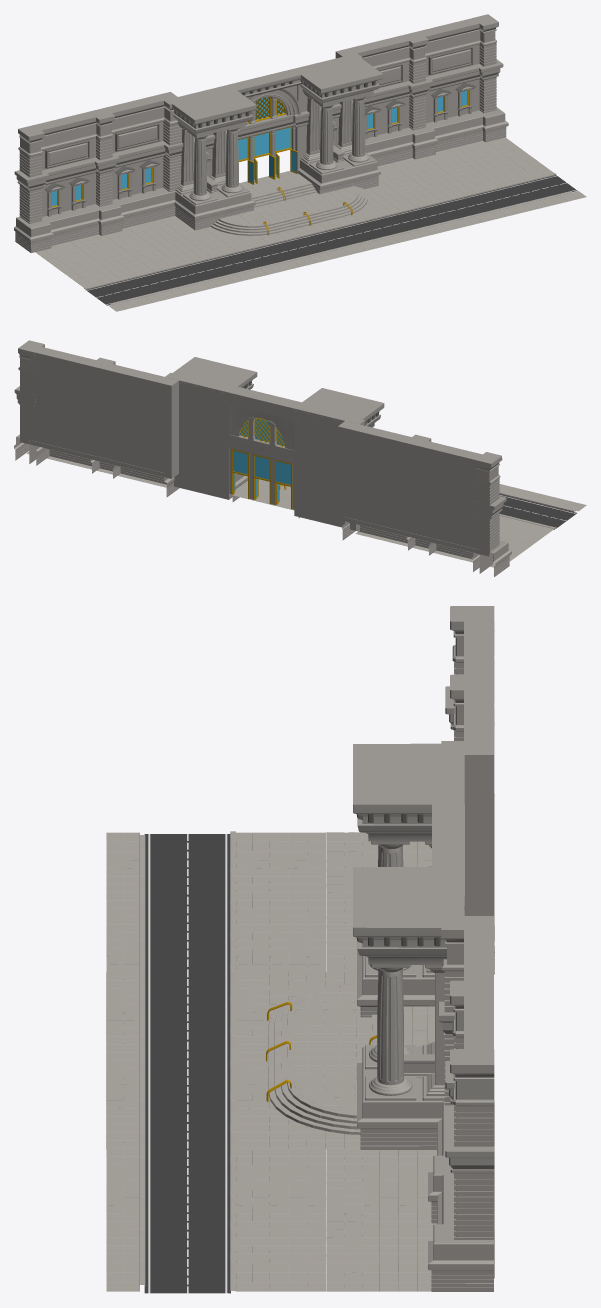
The model's file is Museum_exterrior.fbx.
3 renders of one model, top to bottom at view 1: azimuth 30°, elevation 25°; view 2: azimuth 150°, elevation 25°; view 3: azimuth 270°, elevation 25°, orthographic. The views are drawn at different scales.
Visible parts, largest first — view 1: Wall_windows_L, sidewalk_floor, Wall_windows_R, road, Colum_Part_R, Colum_Part_L, stairs, sidewalk_floor_2, Wall_center_up, Door_panel (×2); view 2: Wall_windows_L, Wall_windows_R, Colum_Part_R, Colum_Part_L, Wall_center_up, sidewalk_floor, Door_panel (×3), road, stairs, sidewalk_floor_2, Colum_door; view 3: sidewalk_floor, road, Colum_Part_R, Wall_windows_R, sidewalk_floor_2, stairs, Colum_Part_L, Wall_windows_L, Wall_center_up.
Part boxes in pixels (left/top/right/bottom): Wall_windows_L: left=14, top=92, right=182, bottom=252; sidewalk_floor: left=35, top=137, right=553, bottom=287; Wall_windows_R: left=335, top=14, right=508, bottom=166; road: left=84, top=173, right=577, bottom=305; Colum_Part_R: left=293, top=54, right=382, bottom=194; Colum_Part_L: left=162, top=84, right=256, bottom=230; stairs: left=210, top=171, right=367, bottom=235; sidewalk_floor_2: left=108, top=191, right=586, bottom=311; Wall_center_up: left=229, top=69, right=301, bottom=139; Door_panel (×2): left=254, top=127, right=291, bottom=172; Wall_windows_L: left=337, top=419, right=511, bottom=576; Wall_windows_R: left=14, top=340, right=179, bottom=497; Colum_Part_R: left=167, top=357, right=257, bottom=501; Colum_Part_L: left=289, top=388, right=384, bottom=532; Wall_center_up: left=224, top=386, right=301, bottom=463; sidewalk_floor: left=26, top=451, right=553, bottom=567; Door_panel (×3): left=231, top=449, right=292, bottom=509; road: left=499, top=492, right=577, bottom=529; stairs: left=229, top=479, right=293, bottom=510; sidewalk_floor_2: left=499, top=484, right=586, bottom=511; Colum_door: left=229, top=448, right=294, bottom=509; sidewalk_floor: left=236, top=832, right=436, bottom=1291; road: left=139, top=831, right=235, bottom=1293; Colum_Part_R: left=353, top=867, right=464, bottom=1149; Wall_windows_R: left=428, top=916, right=494, bottom=1291; sidewalk_floor_2: left=106, top=832, right=139, bottom=1291; stairs: left=268, top=983, right=434, bottom=1134; Colum_Part_L: left=353, top=743, right=464, bottom=1017; Wall_windows_L: left=428, top=606, right=494, bottom=974; Wall_center_up: left=432, top=804, right=464, bottom=913.
Bounding box in the file's own units: 89.34 × 20.27 × 31.41.
